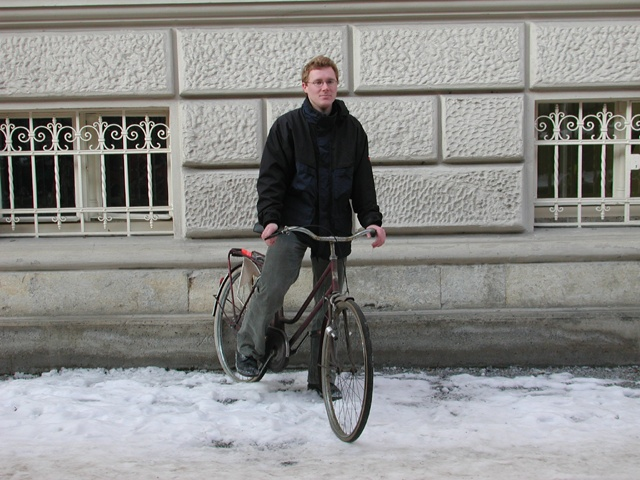person: (259, 52, 358, 403)
